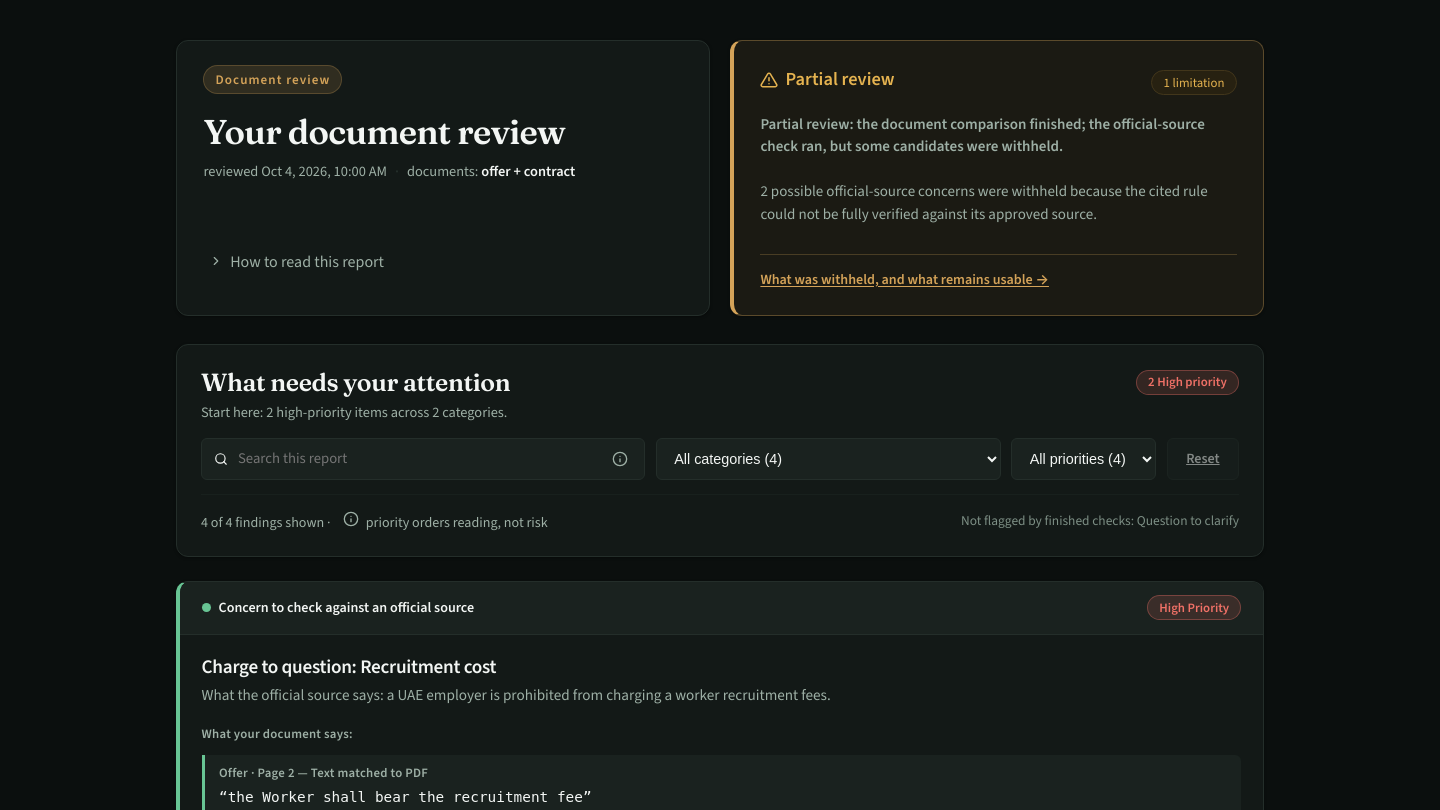
Scenario: three zero-states (R20) › filtered-empty → filter panel with reset (not the clean sentence)
Type "zzz-no-match" into the search field named "Search findings". click: (415, 459)
box: [236, 439, 595, 479]
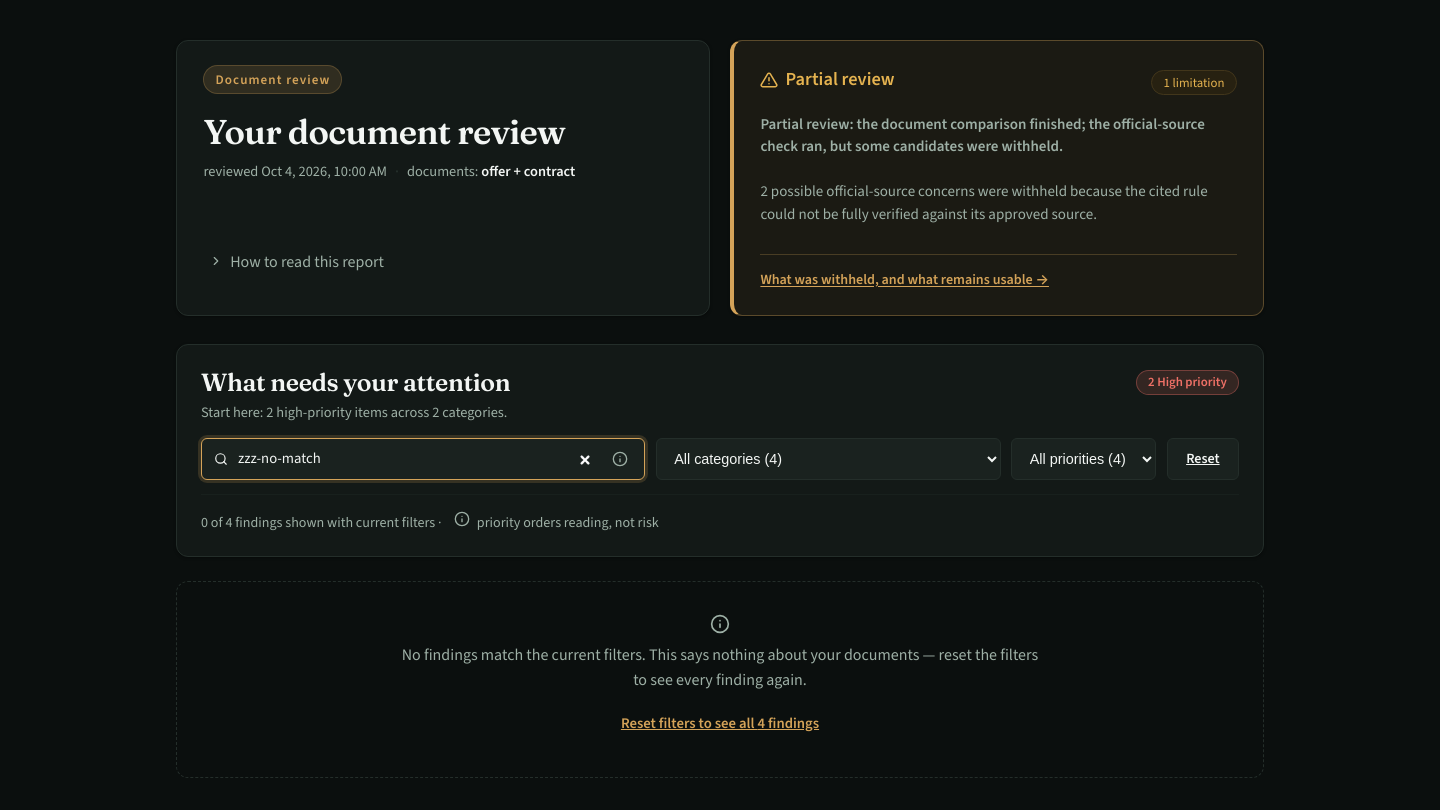
Expected: the text "No findings match the current filters" is shown, [402, 644, 1038, 690]
